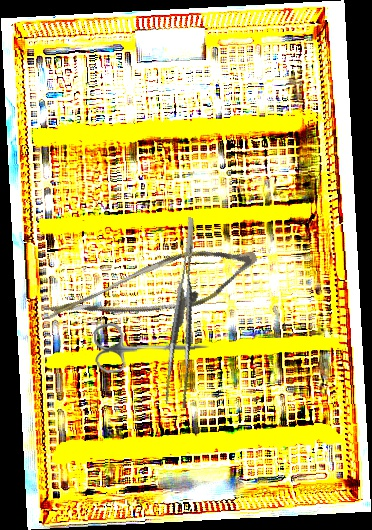Iris Scissors: (93, 320, 210, 374)
Micro Scissor: (37, 213, 265, 370)
Tissue Forceps: (146, 217, 227, 408)
